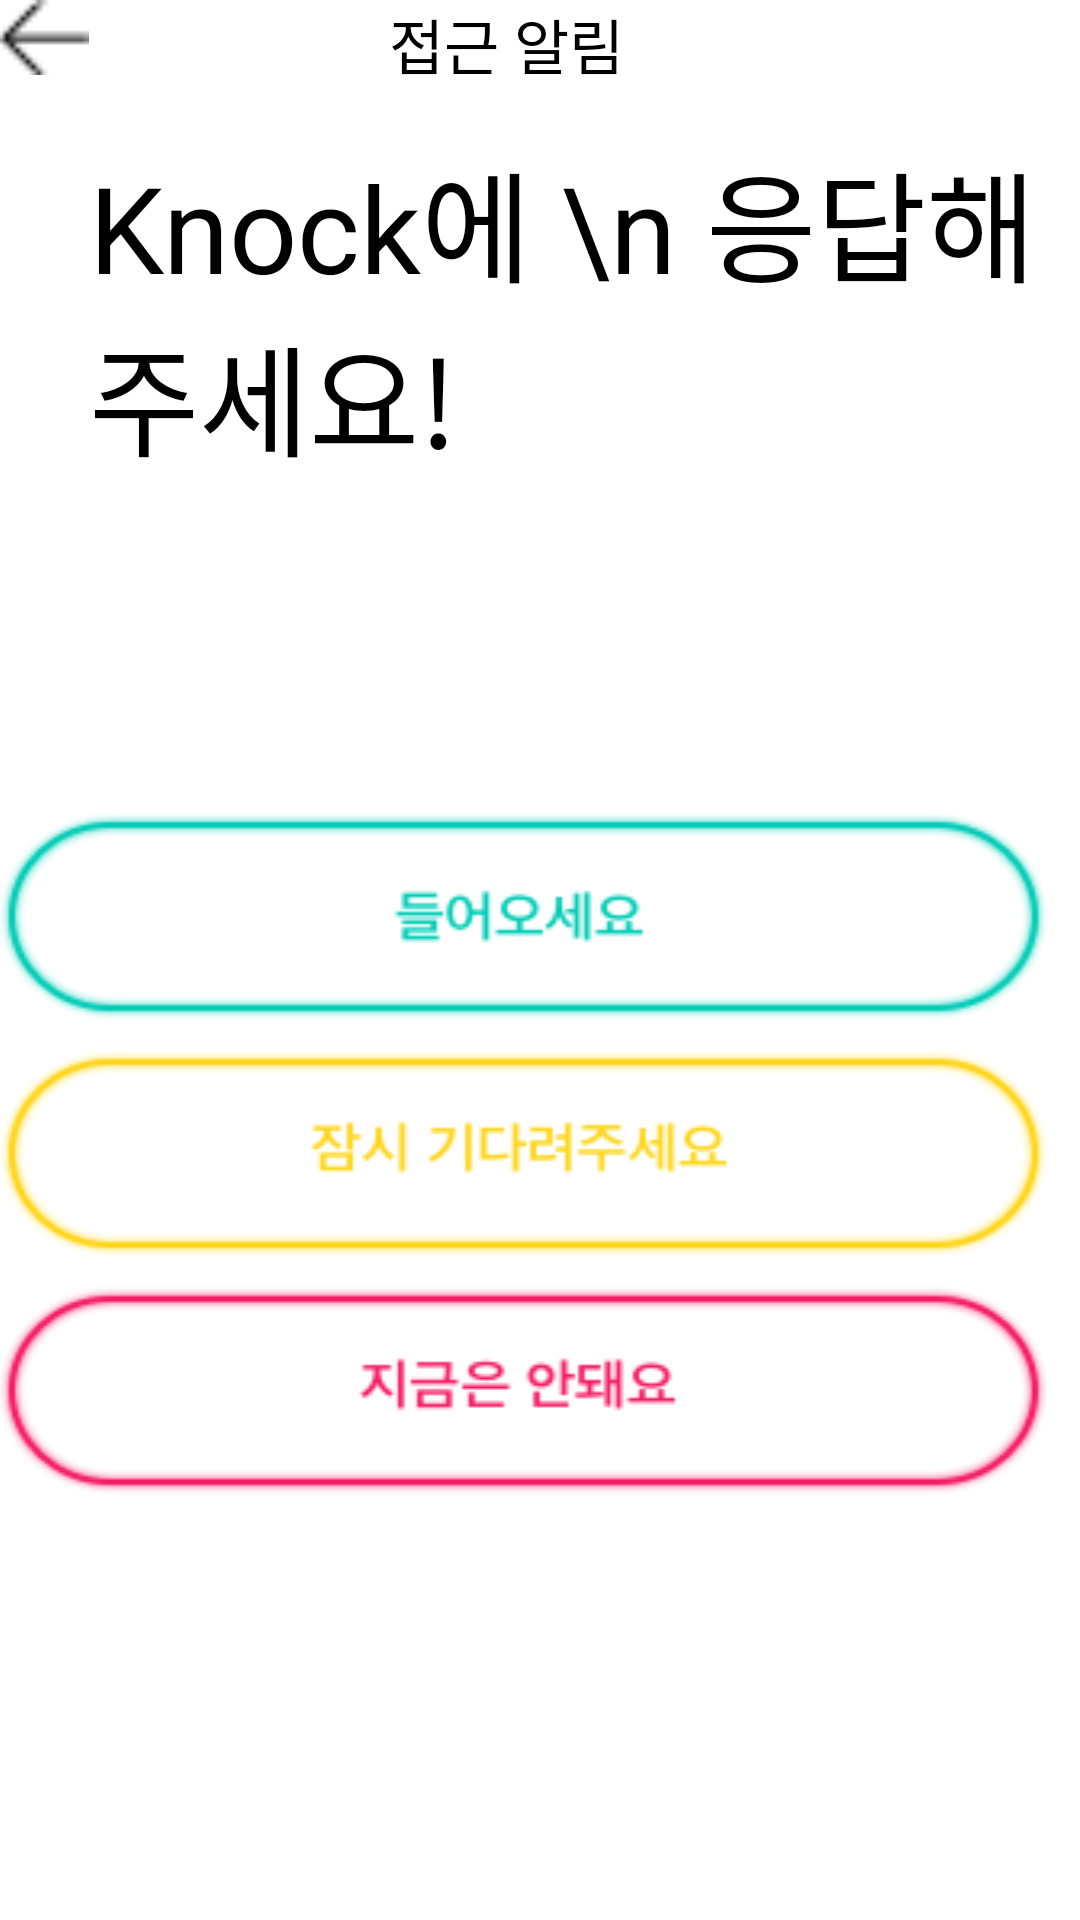

Screen size 1080x1920. Icon name, then its box in pixels as [x1, y1, x2, y2]:
back: [0, 0, 89, 75]
